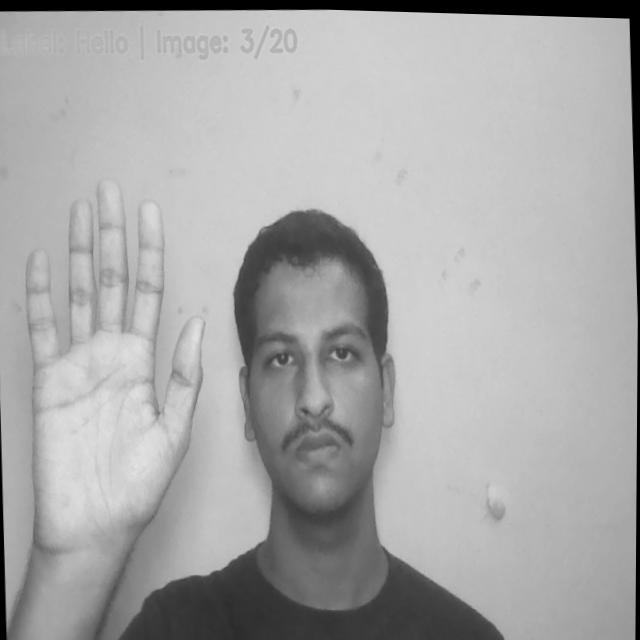Hello: (18, 167, 213, 560)
